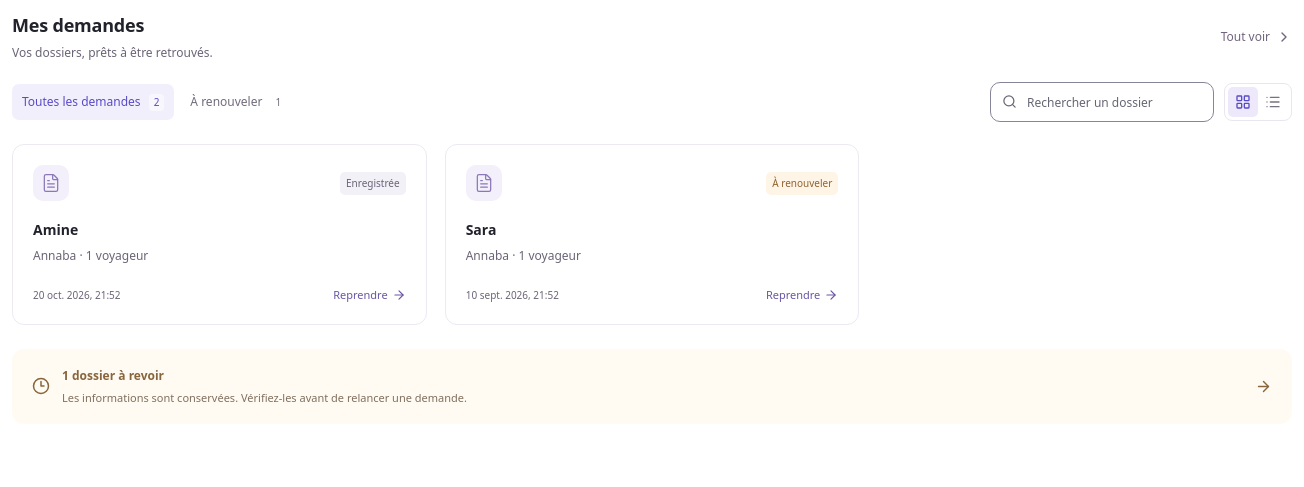
Scenario: ProVisa home workspace › combines real dossier search with the expiration filter and can reset both
The image size is (1304, 487).
Click the button "À renouveler 1": point(238, 102) top-left (180, 84), bottom-right (296, 120)
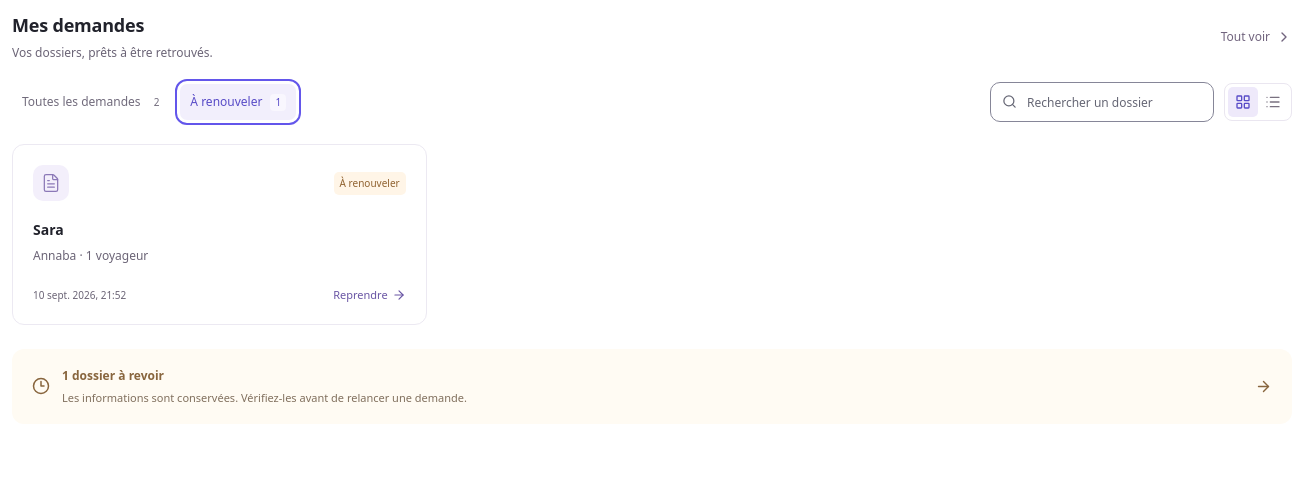
In the field named "Rechercher mes demandes": point(1102, 102) top-left (990, 82), bottom-right (1214, 122), type "inexistant"
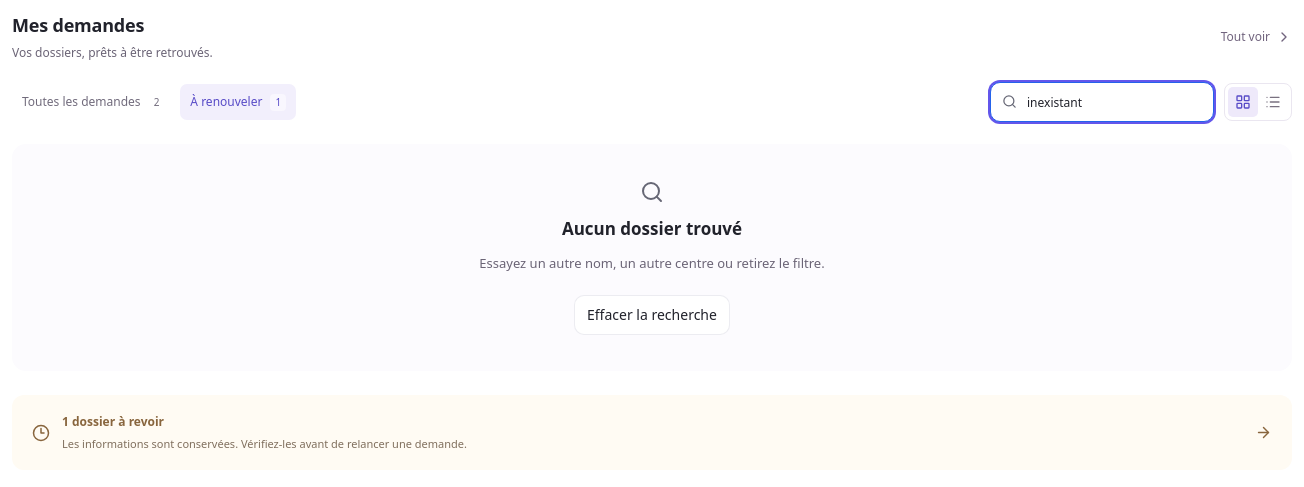
expect the message shows "Aucun dossier trouvé": met, box top-left (562, 217), bottom-right (742, 240)
Click the button "Effacer la recherche": point(652, 315) top-left (574, 295), bottom-right (730, 335)
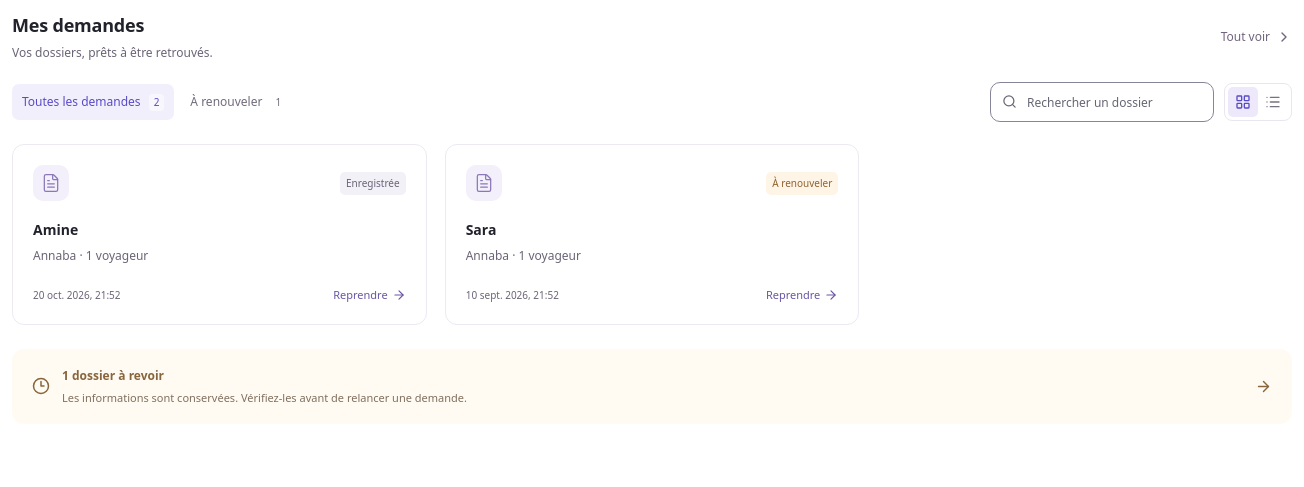
expect the button with aria-label "Consulter le dossier de Amine" is shown: met, box top-left (33, 219), bottom-right (78, 240)
expect the button with aria-label "Consulter le dossier de Sara" is shown: met, box top-left (466, 219), bottom-right (496, 240)
